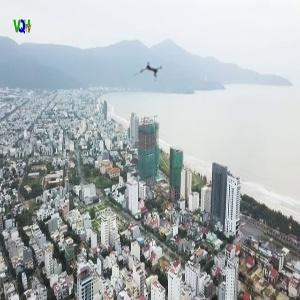drone: (127, 47, 177, 97)
